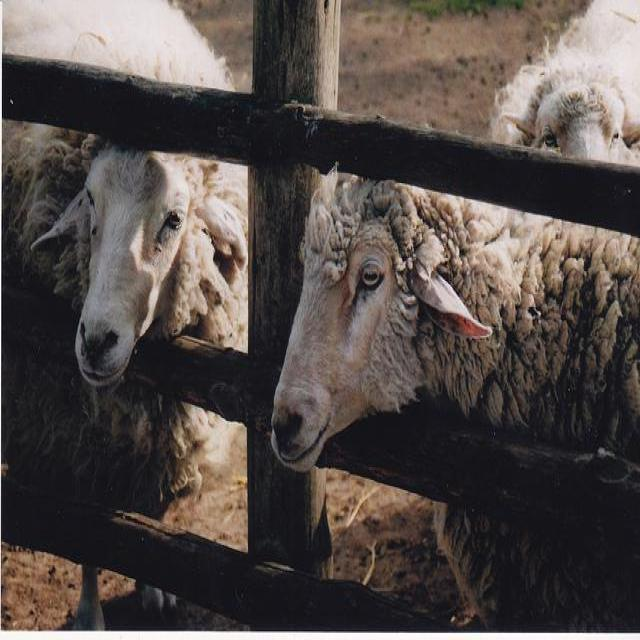Sheep: (270, 160, 639, 634), (1, 1, 247, 632), (492, 3, 639, 170)
